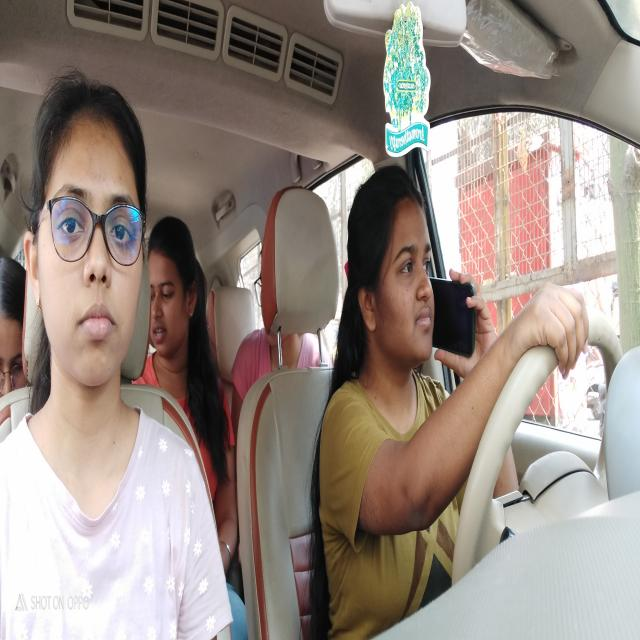mobile: (437, 274, 477, 370)
person: (28, 77, 146, 391), (346, 174, 438, 369), (147, 232, 195, 358), (1, 266, 24, 392)
